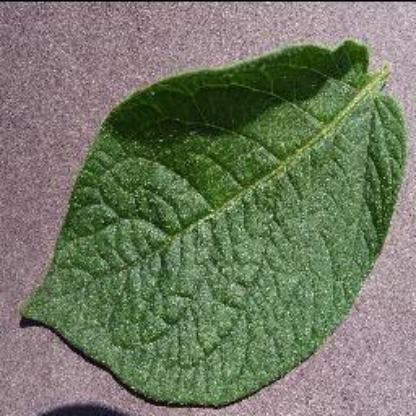Healthy-plant: (15, 37, 411, 413)
